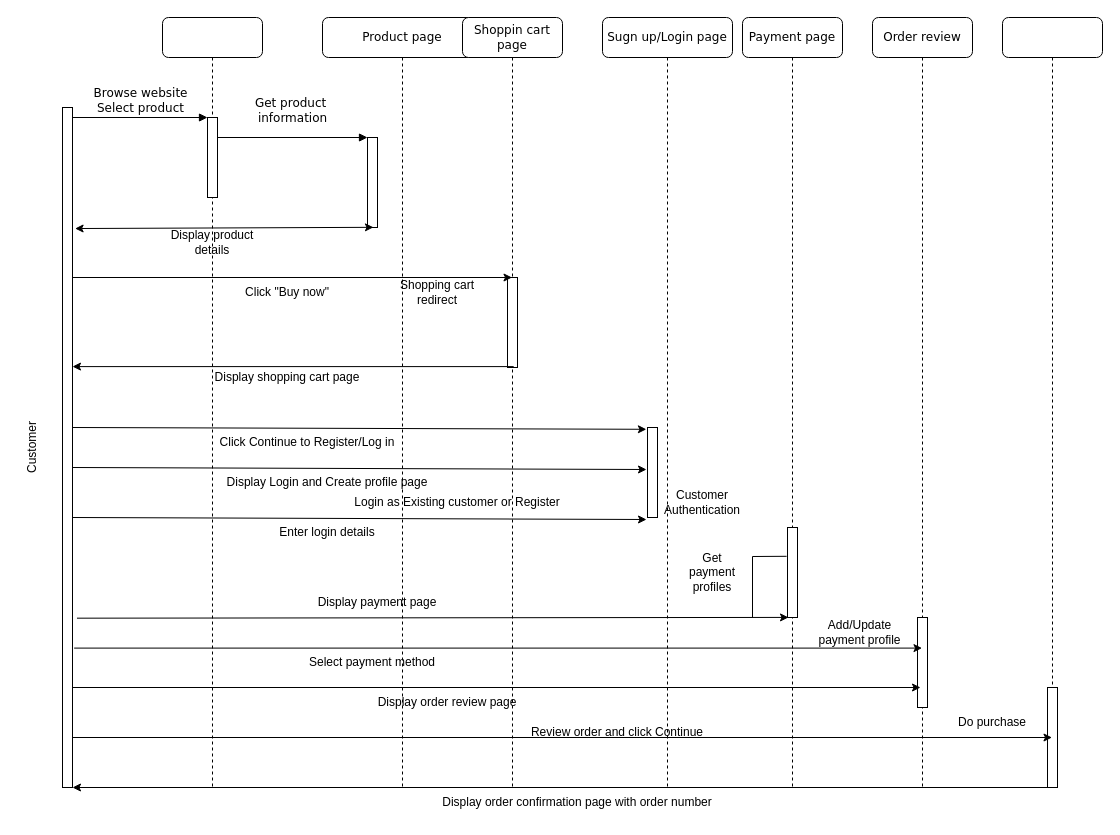
This 1120x835 diagram has some shape labels left out. Here are the shapes that lost their labels. From the top down, the box of each, then its label:
(162, 16, 262, 788): Website
(1002, 16, 1102, 788): Order confirmation
